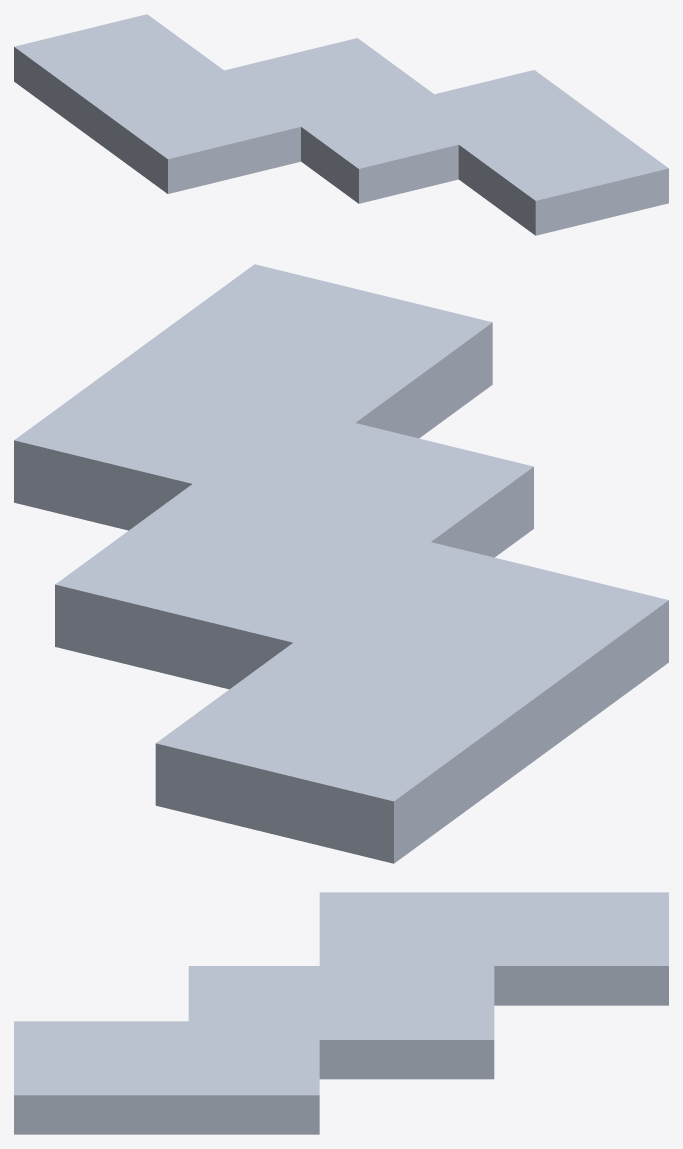
Rendered from nuvem8.fbx.
The picture shows the model from 3 angles, top to bottom: view 1: azimuth 30°, elevation 25°; view 2: azimuth 150°, elevation 25°; view 3: azimuth 270°, elevation 25°; orthographic projection. The views are drawn at different scales.
Parts seen in each view (by area): view 1: Cube.005; view 2: Cube.005; view 3: Cube.005.
Boxes of the visible parts, left/top/right/bottom form: Cube.005: left=14, top=14, right=668, bottom=235; Cube.005: left=14, top=264, right=668, bottom=863; Cube.005: left=14, top=892, right=668, bottom=1134.
Size of the model in its own units: 1100 by 100 by 1500.
